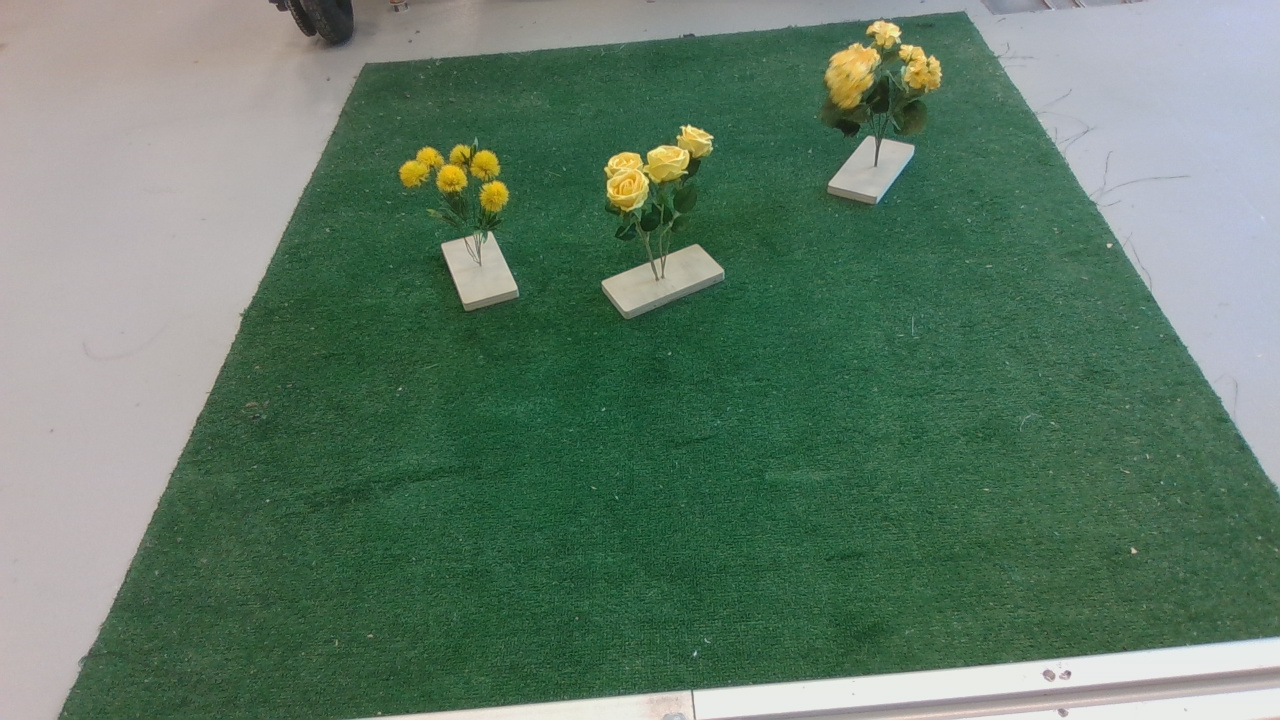dandelion: (398, 144, 526, 245)
geranium: (821, 15, 957, 150)
rose: (599, 122, 725, 256)
